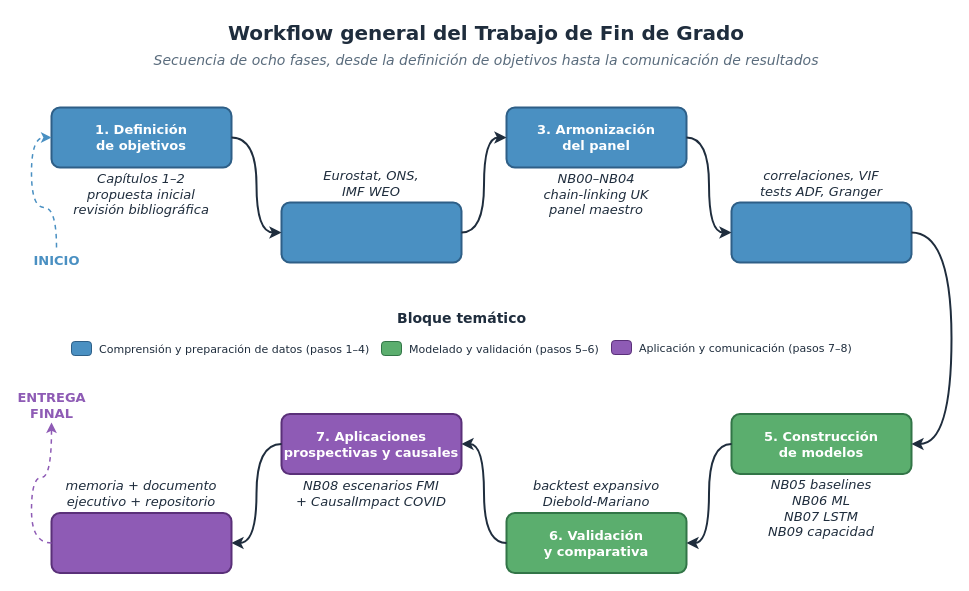
The diagram is 969 pixels wide and 591 high, and some of its shapes have lost their labels. Each missing label, with the centre of its shape:
2. Recopilación de datos brutos: [371,232]
4. Análisis exploratorio y diagnóstico: [821,232]
8. Síntesis y comunicación: [141,543]
